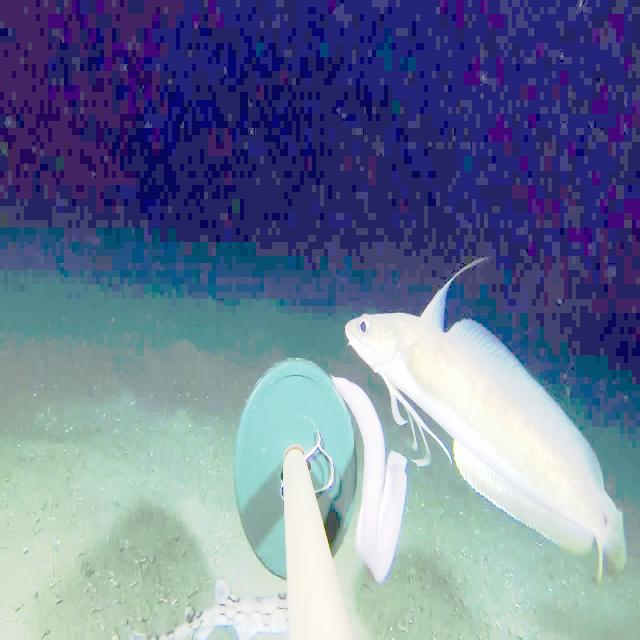eel: (334, 361, 414, 606)
fish: (332, 240, 633, 613), (153, 568, 317, 640)
pole: (233, 360, 358, 639)
